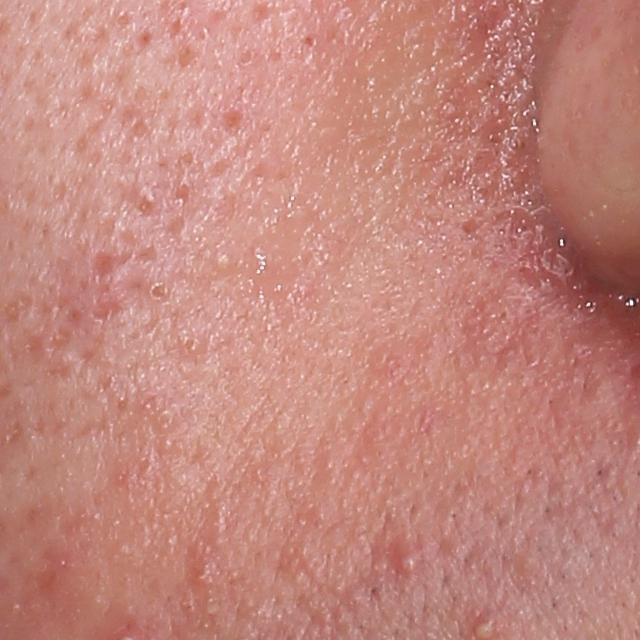atrophic_scar: (90, 249, 114, 284)
comedo: (149, 405, 184, 433), (179, 331, 206, 355), (210, 250, 234, 273), (149, 279, 170, 299)
pustule: (386, 542, 426, 582)
